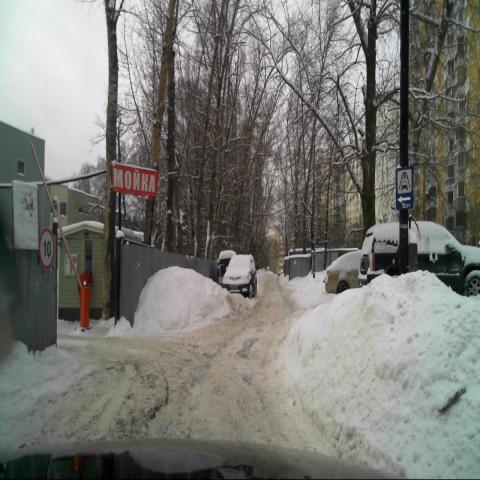7_5: (397, 166, 413, 210)
